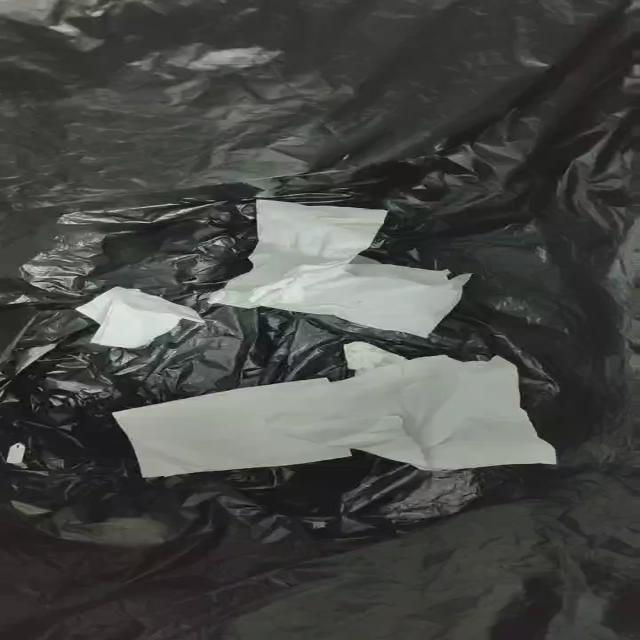paper: (114, 354, 556, 477), (210, 200, 468, 337), (211, 262, 468, 338), (76, 287, 204, 349), (344, 342, 404, 374)
